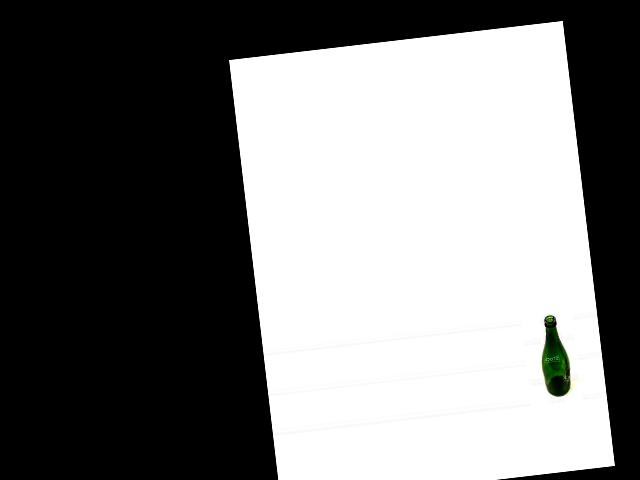beer: (535, 313, 573, 398)
